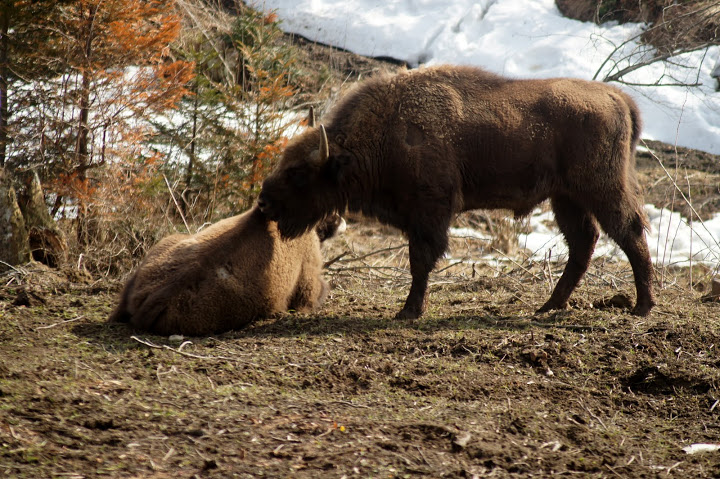zubr: (244, 52, 684, 342), (91, 180, 338, 349)
